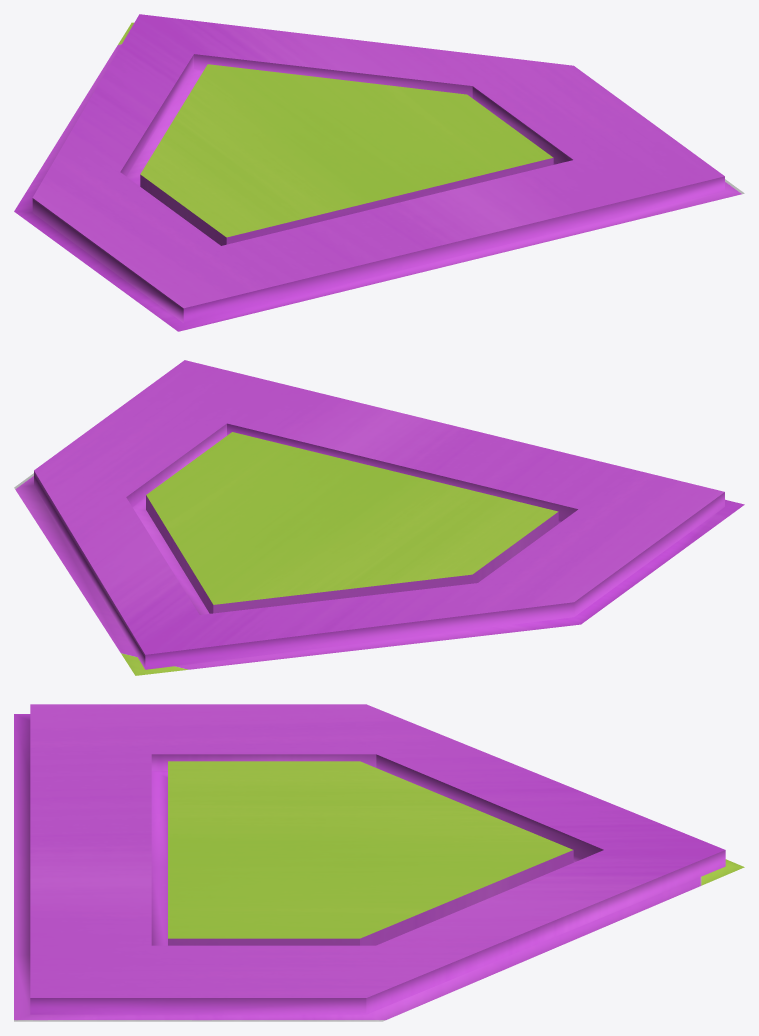
File: Floor3.fbx
3 views of the same model, one above another, from view 1: azimuth 30°, elevation 25°; view 2: azimuth 150°, elevation 25°; view 3: azimuth 270°, elevation 25° (orthographic). The views are drawn at different scales.
Visible parts, largest first — view 1: fLOOR.004; view 2: fLOOR.004; view 3: fLOOR.004.
Boxes of the visible parts, left/top/right/bottom form: fLOOR.004: left=14, top=14, right=744, bottom=331; fLOOR.004: left=14, top=360, right=744, bottom=675; fLOOR.004: left=14, top=704, right=744, bottom=1021.
Bounding box in the file's own units: 118 × 2.99 × 119.
